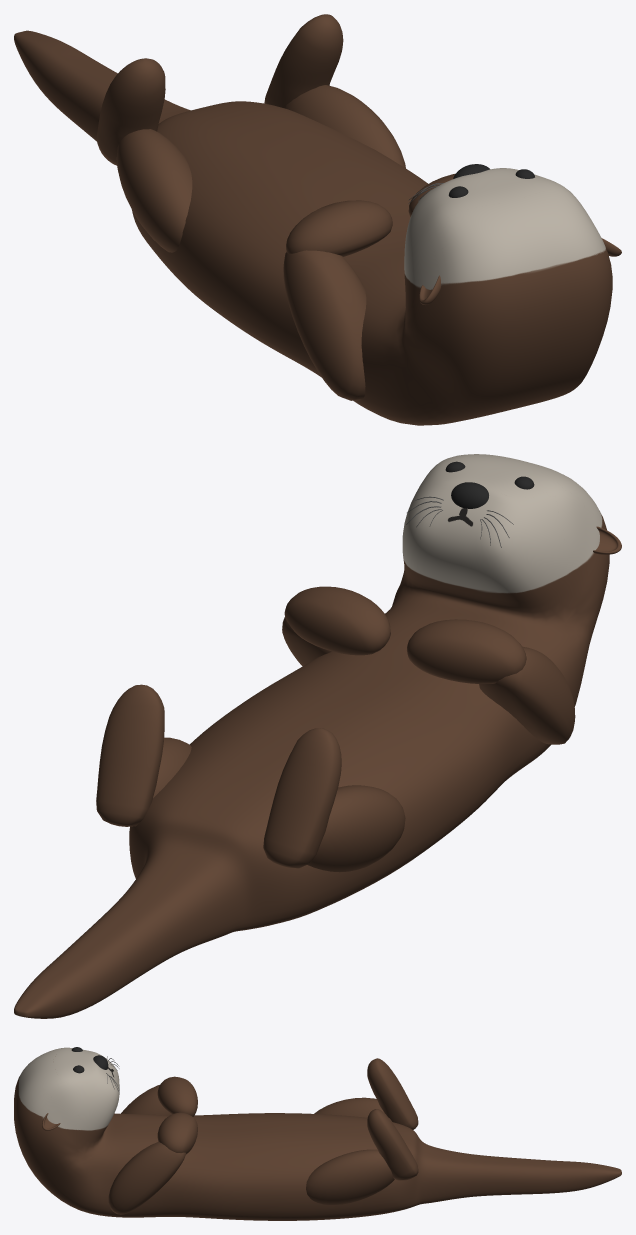
The model's file is Otter.fbx.
The picture shows the model from 3 angles, top to bottom: view 1: azimuth 30°, elevation 25°; view 2: azimuth 150°, elevation 25°; view 3: azimuth 270°, elevation 25°; orthographic projection. The views are drawn at different scales.
Visible parts, largest first — view 1: Cube, Sphere.004, Sphere.005, Sphere.003, Sphere.006; view 2: Cube, Sphere.003, Sphere.006, Sphere.004, Sphere.005, Sphere; view 3: Cube, Sphere.004, Sphere.005, Sphere.003, Sphere.006.
Part boxes in pixels (x1=…): Cube: x1=14, y1=30, x2=612, y2=425; Sphere.004: x1=116, y1=85, x2=405, y2=252; Sphere.005: x1=283, y1=250, x2=366, y2=400; Sphere.003: x1=96, y1=14, x2=343, y2=165; Sphere.006: x1=286, y1=173, x2=455, y2=256; Cube: x1=14, y1=454, x2=609, y2=1018; Sphere.003: x1=96, y1=684, x2=341, y2=868; Sphere.006: x1=284, y1=586, x2=526, y2=683; Sphere.004: x1=153, y1=737, x2=405, y2=872; Sphere.005: x1=282, y1=617, x2=575, y2=744; Sphere: x1=451, y1=482, x2=488, y2=508; Cube: x1=14, y1=1047, x2=621, y2=1220; Sphere.004: x1=306, y1=1097, x2=394, y2=1204; Sphere.005: x1=108, y1=1085, x2=186, y2=1214; Sphere.003: x1=367, y1=1058, x2=418, y2=1180; Sphere.006: x1=157, y1=1076, x2=197, y2=1154.
Bounding box in the file's own units: 437 × 388 × 1529.
